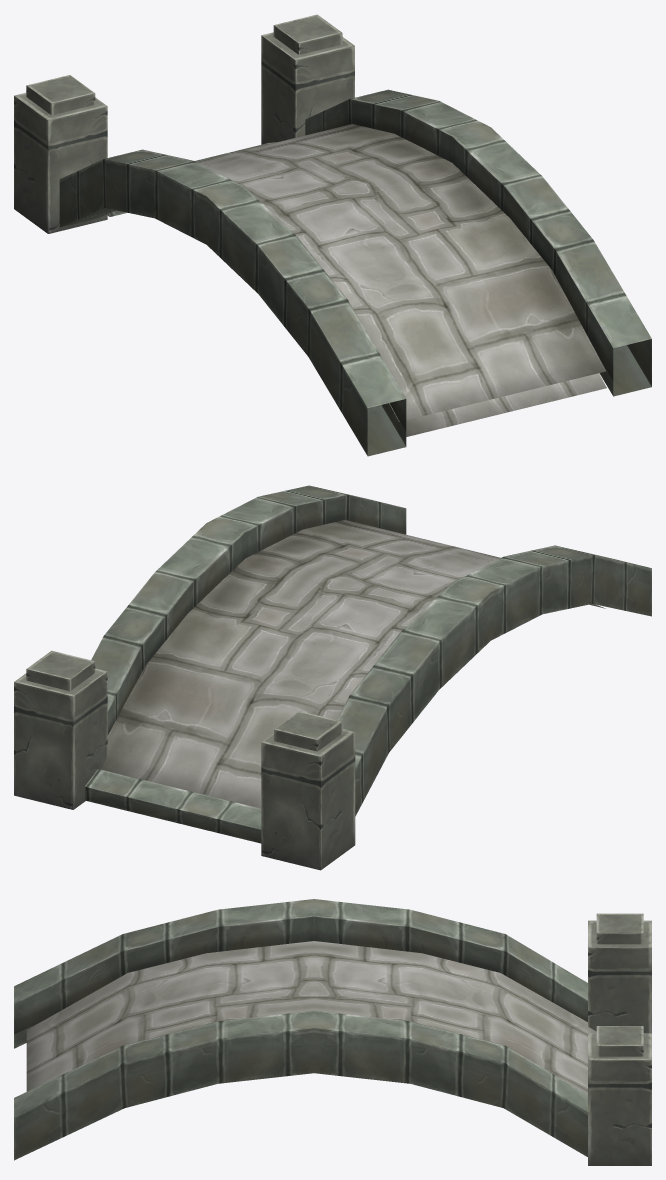
Rendered from bridge_04a_tile_01.fbx.
3 views of the same model, one above another, from view 1: azimuth 30°, elevation 25°; view 2: azimuth 150°, elevation 25°; view 3: azimuth 270°, elevation 25° (orthographic). The views are drawn at different scales.
Visible parts, largest first — view 1: bridge_04a_tile_01; view 2: bridge_04a_tile_01; view 3: bridge_04a_tile_01.
Boxes of the visible parts, x1=… form: bridge_04a_tile_01: x1=14, y1=14, x2=651, y2=456; bridge_04a_tile_01: x1=14, y1=485, x2=651, y2=870; bridge_04a_tile_01: x1=14, y1=899, x2=651, y2=1165.
Size of the model in its own units: 3.04 by 1.35 by 5.89.
